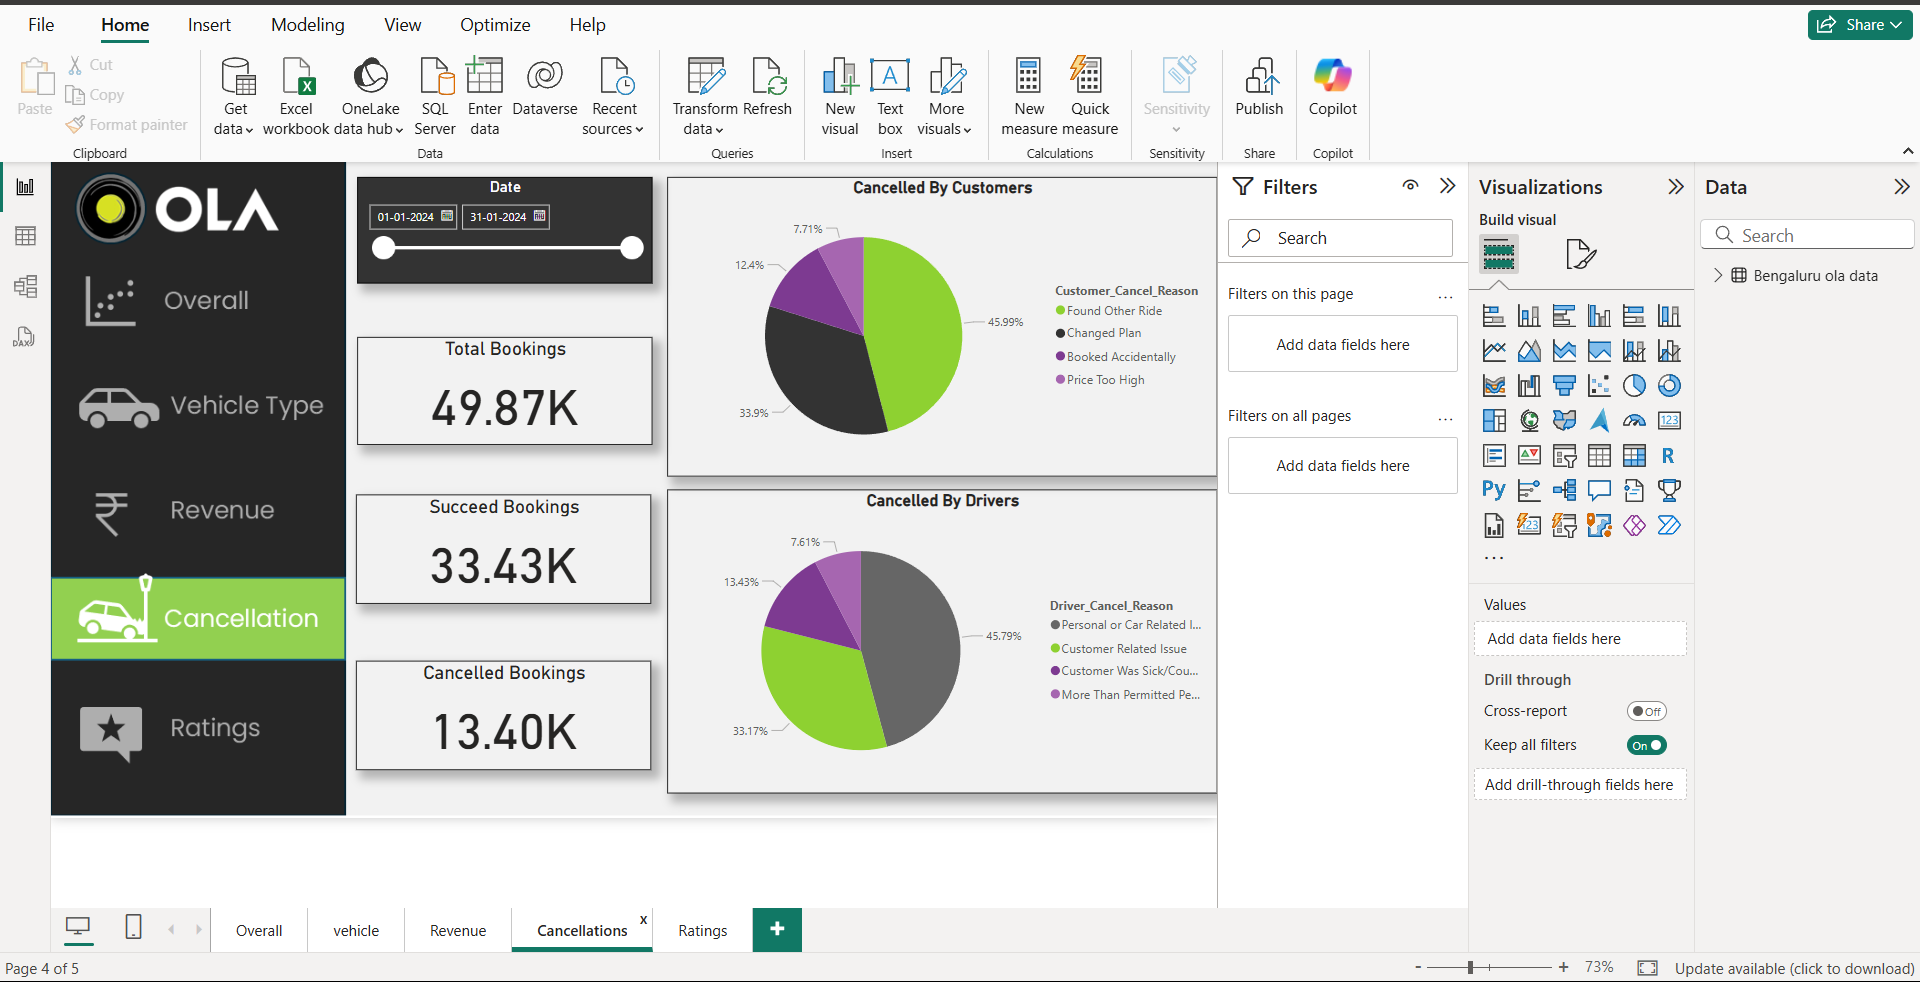

Layout of this report page (visuals, bound fields, positions):
{"tool":"powerbi","page":{"name":"Cancellations","canvas":[1280,720],"ordinal":3},"visuals":[{"type":"actionButton","box":[0,344.4,323.8,81],"z":0},{"type":"actionButton","box":[0,585.9,323.8,81],"z":1000},{"type":"actionButton","box":[0,231.9,323.8,81],"z":2000},{"type":"actionButton","box":[0,109.8,323.8,81],"z":3000},{"type":"pieChart","title":"Cancelled By Customers","fields":{"Category":["Bengaluru ola data.Customer_Cancel_Reason"],"Y":["CountNonNull(Bengaluru ola data.Customer_Cancel_Reason)"]},"box":[676.2,16.2,604,328.8],"z":4000},{"type":"pieChart","title":"Cancelled By Drivers","fields":{"Category":["Bengaluru ola data.Driver_Cancel_Reason"],"Y":["CountNonNull(Bengaluru ola data.Driver_Cancel_Reason)"]},"box":[676.2,359.9,604,333.8],"z":5000},{"type":"card","title":"Total Bookings","fields":{"Values":["Count(Bengaluru ola data.Booking ID)"]},"box":[336.2,191.9,323.9,118.2],"z":6000},{"type":"card","title":"Succeed Bookings","fields":{"Values":["Count(Bengaluru ola data.Booking ID)"]},"box":[334.7,365.4,323.9,119.7],"z":7000},{"type":"card","title":"Cancelled Bookings","fields":{"Values":["Count(Bengaluru ola data.Booking ID)"]},"box":[334.7,548,323.9,119.7],"z":8000},{"type":"slicer","title":"Date","fields":{"Values":["Bengaluru ola data.Date"]},"box":[336.2,16.5,323.8,116.6],"z":9000}]}

Visuals, with their boxes on the page's 1280x720 design canvas (x1, y1, x2, y2). These are canvas units, not pixel positions in the 1920x982 screenshot, which may show the page scaled, cropped or inside an application window:
actionButton: [0, 344, 324, 425]
actionButton: [0, 586, 324, 667]
actionButton: [0, 232, 324, 313]
actionButton: [0, 110, 324, 191]
"Cancelled By Customers" pieChart: [676, 16, 1280, 345]
"Cancelled By Drivers" pieChart: [676, 360, 1280, 694]
"Total Bookings" card: [336, 192, 660, 310]
"Succeed Bookings" card: [335, 365, 659, 485]
"Cancelled Bookings" card: [335, 548, 659, 668]
"Date" slicer: [336, 16, 660, 133]
